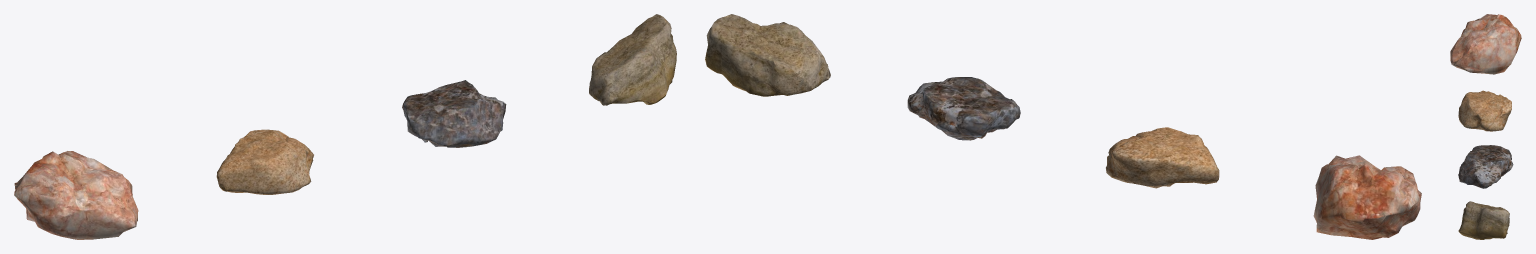
The model's file is namaqualand_rocks_01.glb.
The picture shows the model from 3 angles, left to right: view 1: azimuth 30°, elevation 25°; view 2: azimuth 150°, elevation 25°; view 3: azimuth 270°, elevation 25°; orthographic projection. The views are drawn at different scales.
Visible parts, largest first — view 1: namaqualand_rocks_02_a, namaqualand_rocks_02_d, namaqualand_rocks_02_c, namaqualand_rocks_02_b; view 2: namaqualand_rocks_02_d, namaqualand_rocks_02_a, namaqualand_rocks_02_b, namaqualand_rocks_02_c; view 3: namaqualand_rocks_02_a, namaqualand_rocks_02_b, namaqualand_rocks_02_c, namaqualand_rocks_02_d.
Boxes of the visible parts, x1,y1,x2,y2 form: namaqualand_rocks_02_a: [14, 151, 138, 239]; namaqualand_rocks_02_d: [589, 14, 676, 105]; namaqualand_rocks_02_c: [402, 80, 506, 147]; namaqualand_rocks_02_b: [216, 129, 313, 194]; namaqualand_rocks_02_d: [705, 14, 830, 96]; namaqualand_rocks_02_a: [1313, 155, 1421, 239]; namaqualand_rocks_02_b: [1106, 127, 1219, 188]; namaqualand_rocks_02_c: [907, 77, 1020, 140]; namaqualand_rocks_02_a: [1450, 14, 1521, 74]; namaqualand_rocks_02_b: [1458, 90, 1511, 131]; namaqualand_rocks_02_c: [1458, 145, 1513, 188]; namaqualand_rocks_02_d: [1458, 201, 1509, 239].
Bounding box in the file's own units: 1.45 × 0.1517 × 0.2151.
1 material, 1 textured.
